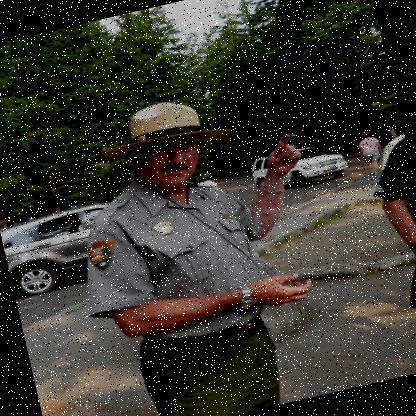Car: (0, 202, 118, 301), (250, 140, 350, 197)
